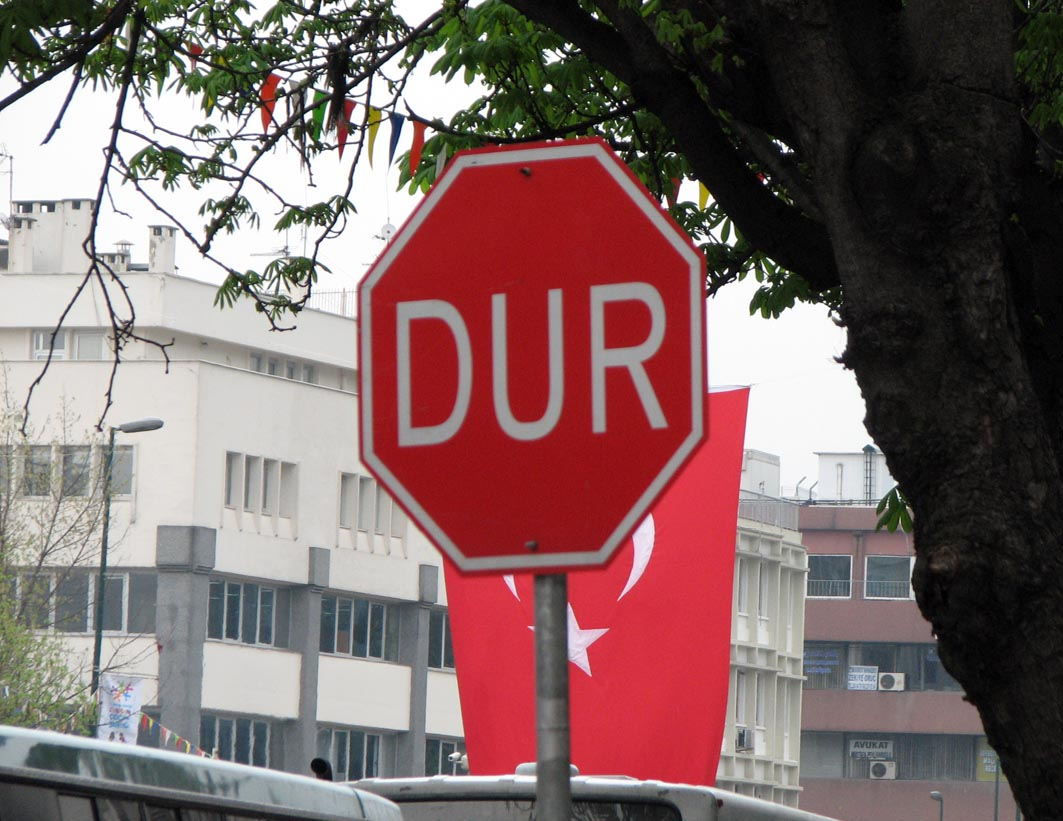dur: (356, 143, 707, 575)
